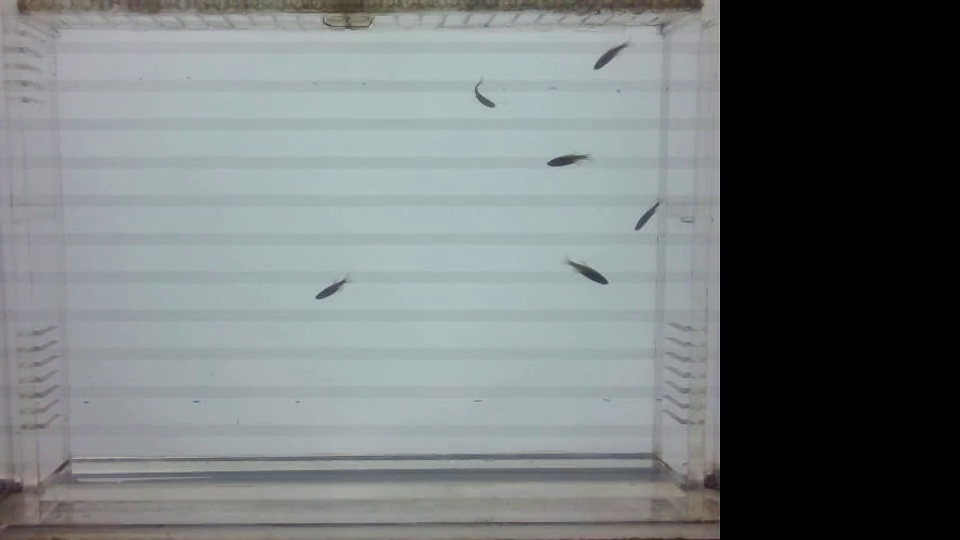fish: (556, 252, 614, 296), (304, 264, 358, 309), (589, 32, 634, 84), (532, 146, 596, 181), (462, 68, 505, 116), (622, 192, 660, 237)
